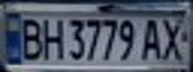3: (63, 16, 84, 61)
7: (81, 16, 103, 61), (100, 16, 121, 61)
9: (115, 16, 139, 62)
A: (139, 16, 166, 62)
B: (15, 15, 45, 62)
H: (36, 15, 66, 61)
X: (157, 12, 190, 62)
